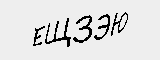Е: (28, 24, 44, 46)
З: (74, 12, 92, 48)
Щ: (43, 17, 72, 49)
Э: (93, 10, 112, 44)
Ю: (110, 8, 128, 41)
